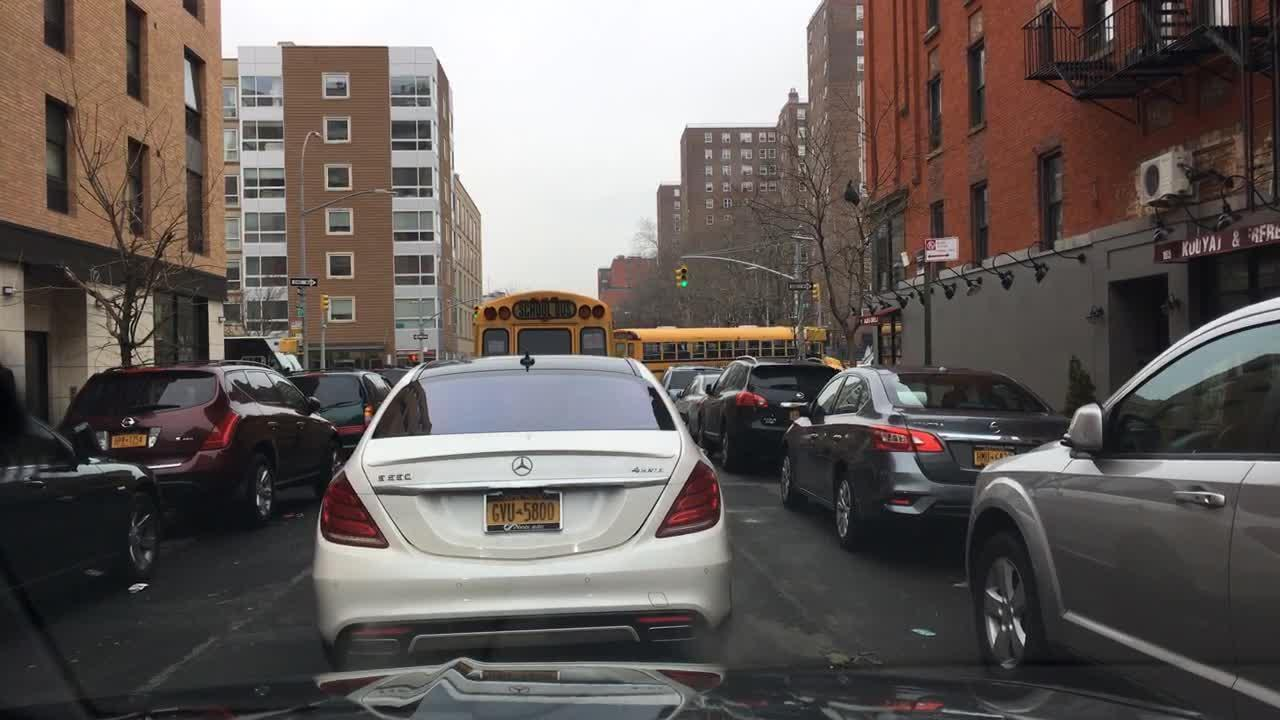Mercedes: (501, 440, 542, 483)
